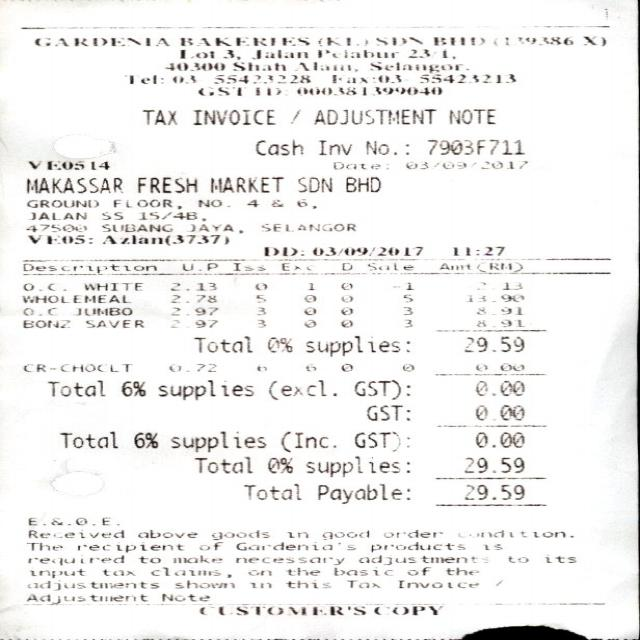text: (304, 454, 408, 477), (168, 429, 264, 452), (302, 334, 400, 356), (311, 108, 434, 125), (156, 378, 252, 399), (314, 482, 407, 503), (198, 605, 364, 615), (426, 138, 523, 154), (24, 176, 120, 192), (189, 108, 272, 125), (102, 233, 228, 244), (21, 262, 156, 272), (26, 580, 157, 590), (358, 554, 488, 564), (278, 429, 334, 452), (208, 175, 282, 192), (350, 378, 409, 399), (266, 379, 325, 400), (312, 245, 424, 256), (32, 37, 167, 46), (26, 593, 146, 603), (352, 431, 409, 452), (294, 86, 441, 94), (178, 36, 308, 45), (454, 528, 570, 538), (369, 540, 463, 552), (460, 336, 526, 353), (403, 159, 526, 168), (368, 60, 460, 72), (461, 456, 525, 473), (236, 541, 353, 550), (192, 334, 250, 352), (46, 379, 104, 397), (192, 454, 250, 472), (241, 482, 299, 500), (22, 362, 132, 371), (25, 554, 124, 564), (135, 176, 196, 192), (234, 555, 342, 564), (212, 74, 309, 84), (26, 528, 123, 538), (58, 430, 115, 447), (418, 73, 514, 83), (258, 222, 354, 232), (76, 542, 181, 551), (463, 484, 524, 499), (21, 294, 131, 302), (150, 566, 230, 577), (446, 108, 496, 125), (316, 48, 399, 58), (252, 139, 302, 155), (474, 380, 524, 396), (474, 432, 524, 448), (437, 262, 522, 271), (472, 405, 522, 420), (364, 403, 408, 420), (491, 36, 574, 45), (395, 579, 478, 588), (27, 160, 109, 169), (25, 516, 116, 524), (329, 73, 401, 83), (372, 605, 440, 615), (98, 223, 172, 232), (26, 198, 98, 207), (140, 108, 177, 125), (210, 528, 267, 539), (110, 198, 171, 208), (464, 292, 525, 302), (24, 234, 90, 243), (342, 176, 379, 192), (83, 318, 142, 328), (250, 48, 308, 58), (382, 528, 440, 538), (292, 61, 349, 71), (295, 176, 330, 192), (162, 61, 223, 70), (25, 223, 85, 232), (471, 280, 524, 290), (317, 138, 350, 154), (136, 528, 194, 537), (174, 578, 232, 587), (230, 61, 286, 70), (317, 36, 367, 46), (330, 160, 380, 170), (319, 529, 369, 539), (332, 568, 394, 576), (375, 36, 424, 46), (135, 210, 196, 218), (81, 282, 142, 290), (29, 568, 83, 577), (431, 36, 484, 45), (167, 318, 214, 328), (160, 592, 207, 602), (472, 362, 524, 371), (28, 211, 86, 219), (22, 318, 68, 328), (130, 430, 155, 448), (75, 307, 131, 315), (120, 379, 146, 396), (265, 457, 291, 474), (168, 363, 217, 372), (198, 86, 245, 95), (187, 223, 234, 232), (406, 48, 448, 58), (362, 139, 388, 155), (476, 318, 522, 327), (452, 246, 502, 254), (474, 306, 524, 314), (168, 294, 217, 302), (123, 74, 162, 84), (262, 245, 297, 256), (168, 282, 216, 290), (266, 336, 290, 352), (172, 555, 220, 563), (169, 306, 216, 314), (178, 48, 214, 58), (367, 262, 412, 270), (22, 282, 64, 290), (21, 306, 57, 315), (544, 553, 576, 563), (26, 541, 60, 550), (344, 578, 377, 587), (444, 567, 480, 575), (284, 580, 325, 587), (580, 35, 606, 46), (252, 86, 280, 96), (280, 262, 315, 270), (181, 262, 216, 270), (231, 262, 264, 270), (285, 566, 318, 574), (170, 74, 196, 83), (100, 568, 133, 575), (198, 541, 222, 550), (194, 198, 220, 206), (403, 566, 428, 574), (339, 260, 353, 273), (288, 108, 300, 123), (100, 211, 122, 219), (392, 282, 414, 290), (505, 554, 527, 562), (137, 555, 159, 563), (244, 198, 258, 208), (246, 568, 269, 574), (246, 582, 268, 588), (222, 48, 234, 58), (302, 294, 317, 302), (303, 362, 315, 372), (286, 531, 306, 537), (339, 362, 352, 371), (482, 543, 501, 549), (252, 282, 266, 290), (339, 294, 353, 302), (301, 319, 315, 327), (253, 318, 265, 327), (338, 282, 351, 290), (253, 294, 266, 302), (338, 307, 351, 315), (338, 319, 351, 327), (254, 362, 267, 370), (255, 306, 266, 315), (268, 198, 280, 206), (295, 198, 307, 206), (302, 307, 314, 315), (401, 307, 413, 315), (400, 362, 412, 370), (401, 293, 410, 303), (401, 318, 410, 327), (306, 282, 315, 290)
